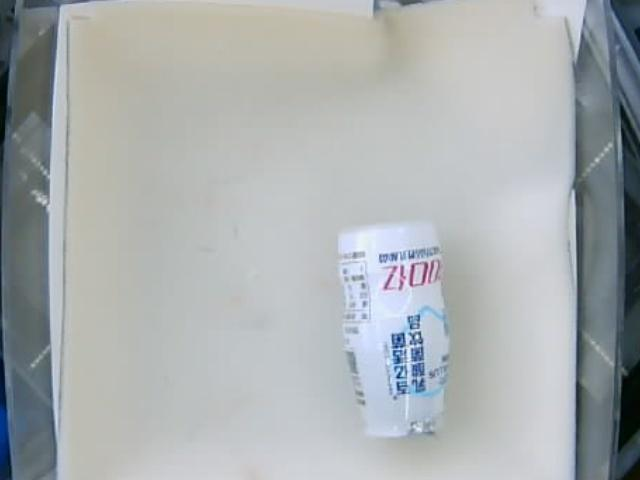Bottle: (336, 220, 446, 438)
